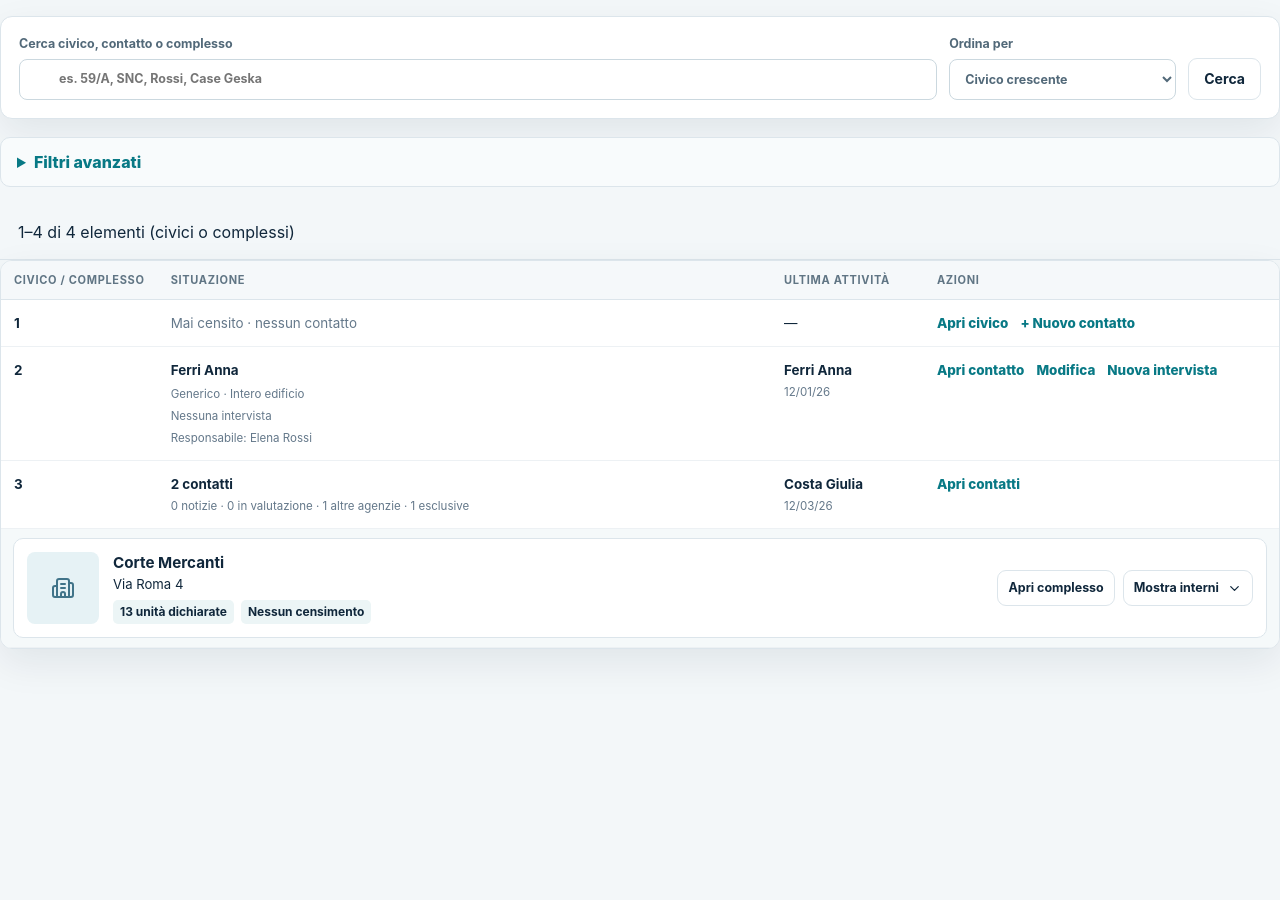
it: street operational workflow › keeps a Complex with no contacts and uses a local placeholder
Expected: the text "Nessun censimento" is shown, [241,600,371,624]
Expected: the element named "Nessuna foto del complesso" is shown, [27,552,99,624]
What coordinates should you click on to do the following:
click the button "Mostra interni"
I would click on:
 (1188, 588)
Its box is [1123,570,1253,606].
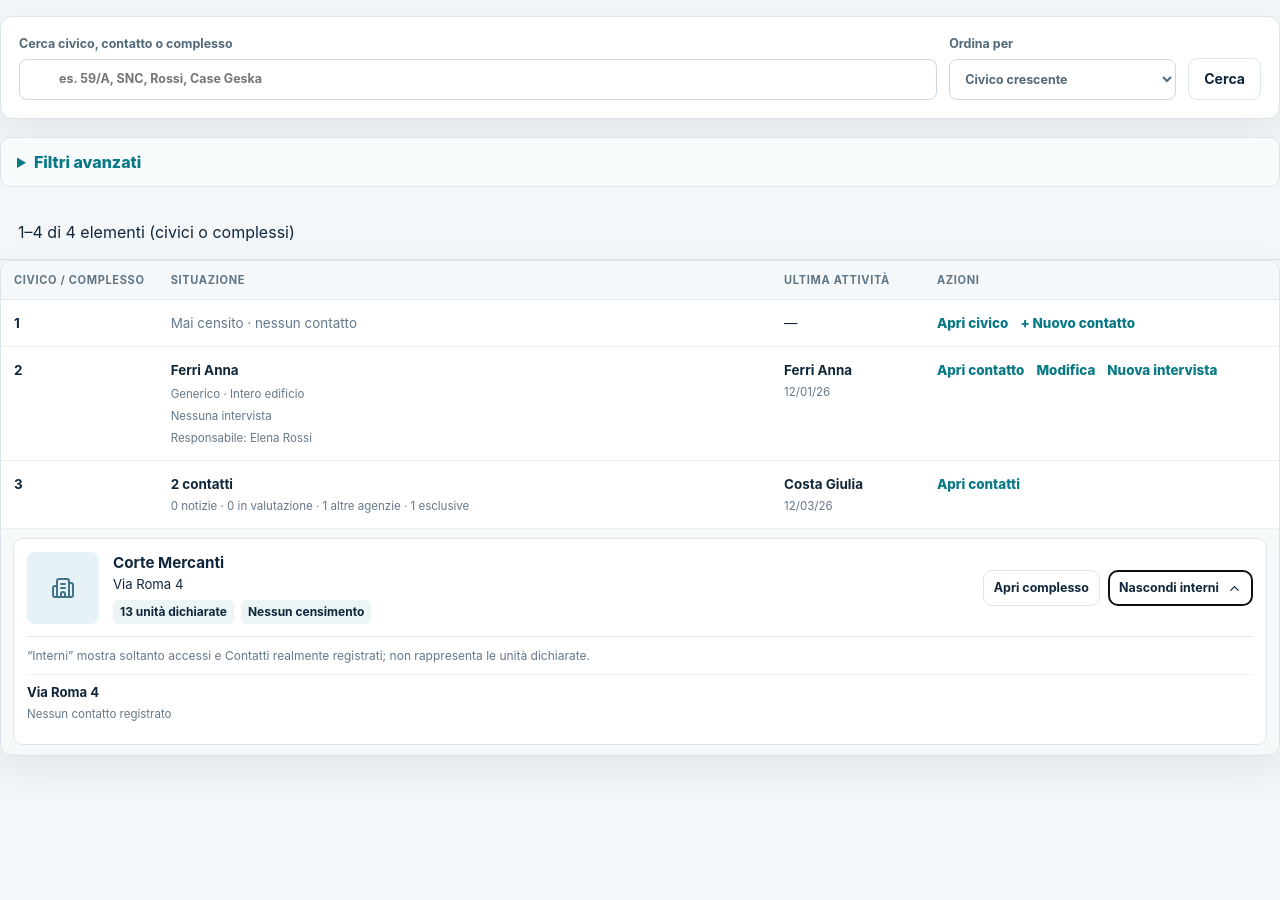
Result: the text "Nessun contatto registrato" is shown at [27,707,172,721]
